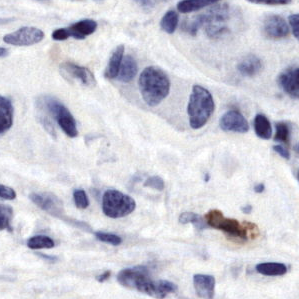Lymphocyte: (203, 205, 263, 242)
